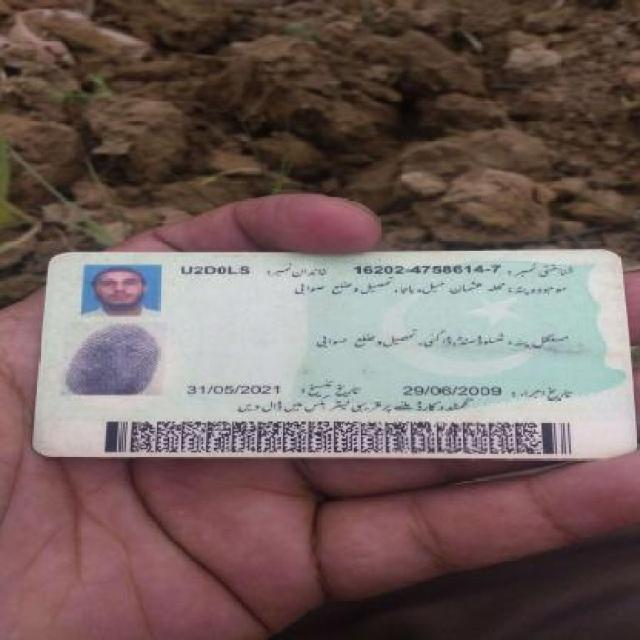Back: (20, 242, 638, 464)
